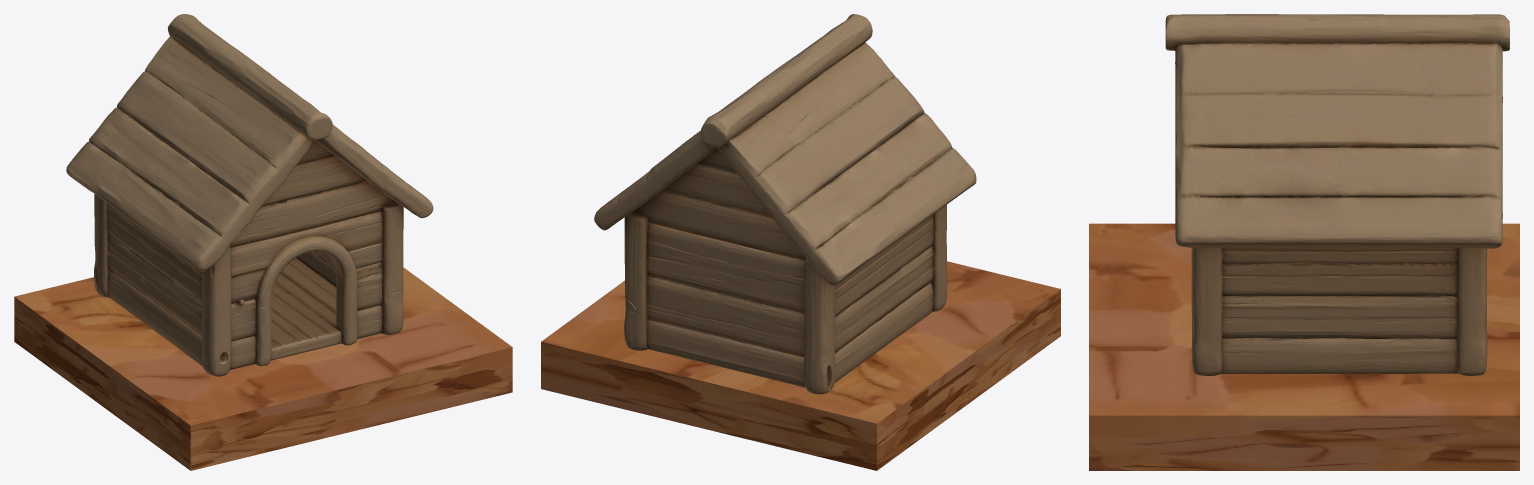
Rendered from DOM_budka_7__soso.glb.
The picture shows the model from 3 angles, left to right: view 1: azimuth 30°, elevation 25°; view 2: azimuth 150°, elevation 25°; view 3: azimuth 270°, elevation 25°; orthographic projection. The views are drawn at different scales.
Parts seen in each view (by area): view 1: tripo_node_12152d5f-ba4f-4488-aab8-28f63a66d37c, Cube; view 2: tripo_node_12152d5f-ba4f-4488-aab8-28f63a66d37c, Cube; view 3: tripo_node_12152d5f-ba4f-4488-aab8-28f63a66d37c, Cube.
Part boxes in pixels (left/top/right/bottom): tripo_node_12152d5f-ba4f-4488-aab8-28f63a66d37c: left=66, top=14, right=433, bottom=376; Cube: left=14, top=267, right=512, bottom=470; tripo_node_12152d5f-ba4f-4488-aab8-28f63a66d37c: left=594, top=14, right=976, bottom=394; Cube: left=541, top=261, right=1060, bottom=470; tripo_node_12152d5f-ba4f-4488-aab8-28f63a66d37c: left=1165, top=14, right=1509, bottom=376; Cube: left=1089, top=223, right=1519, bottom=470.
Bounding box in the file's own units: 3.3 × 2.88 × 3.13.
Materials: 2 (2 with a texture image).
